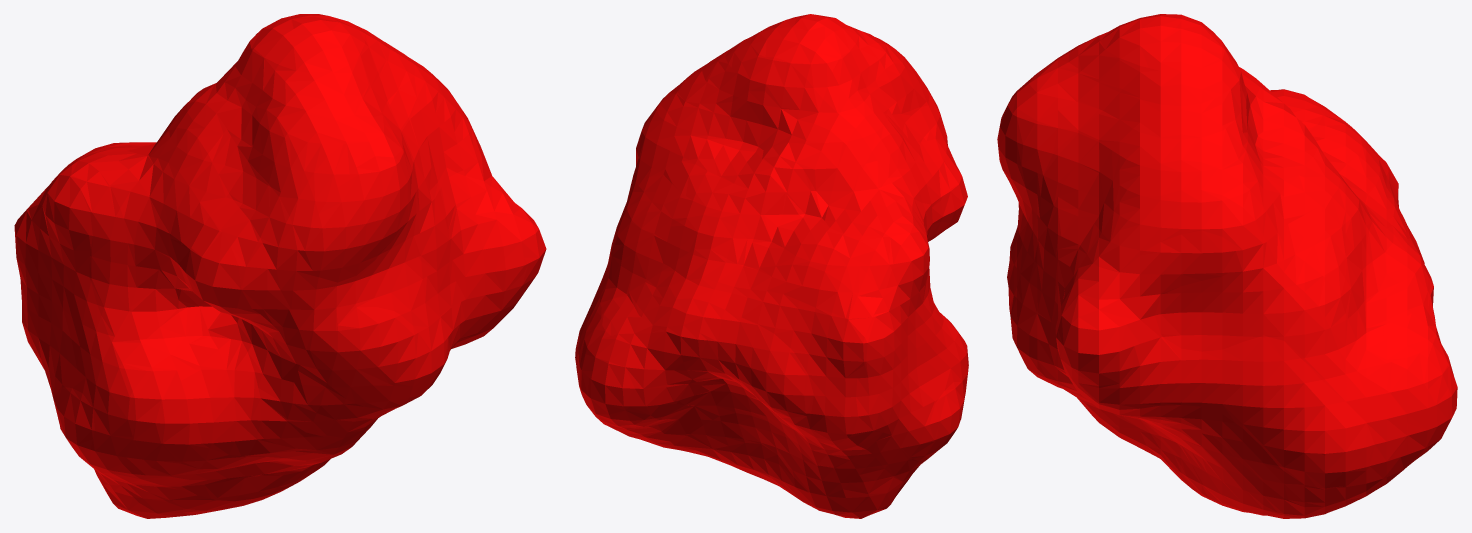
Rendered from folA_coarse.dae.
The picture shows the model from 3 angles, left to right: view 1: azimuth 30°, elevation 25°; view 2: azimuth 150°, elevation 25°; view 3: azimuth 270°, elevation 25°; orthographic projection. The views are drawn at different scales.
Visible parts, largest first — view 1: folA; view 2: folA; view 3: folA.
Boxes of the visible parts, x1,y1,x2,y2 form: folA: (14, 14, 546, 518); folA: (575, 14, 968, 518); folA: (997, 14, 1457, 518).
Size of the model in its own units: 40.67 by 48.7 by 40.91.
